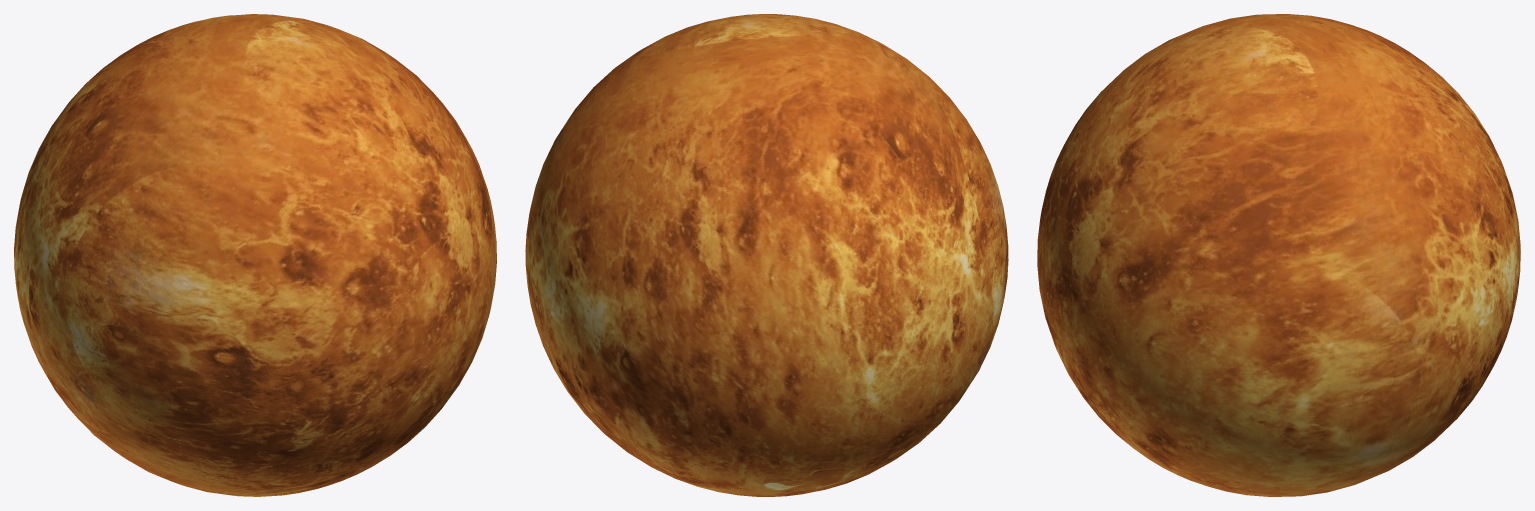
Rendered from venus.gltf.
The picture shows the model from 3 angles, left to right: view 1: azimuth 30°, elevation 25°; view 2: azimuth 150°, elevation 25°; view 3: azimuth 270°, elevation 25°; orthographic projection.
Visible parts, largest first — view 1: node_id71; view 2: node_id71; view 3: node_id71.
Boxes of the visible parts, x1,y1,x2,y2 form: node_id71: (14, 14, 496, 496); node_id71: (525, 14, 1008, 496); node_id71: (1037, 14, 1520, 496).
Bounding box in the file's own units: 0.3041 × 0.3041 × 0.304.
Materials: 1 (1 with a texture image).
